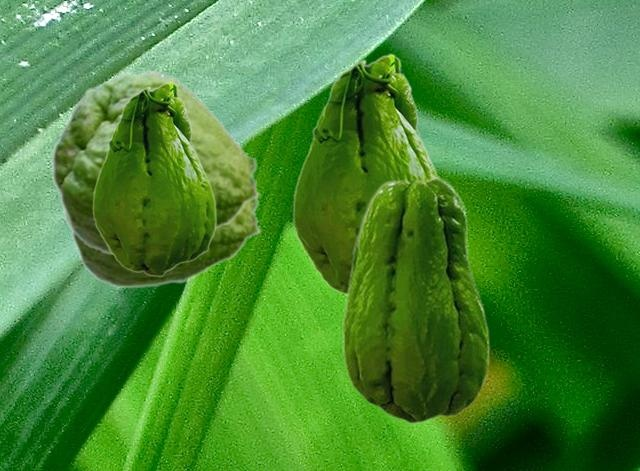sayote: (51, 69, 261, 255), (342, 176, 489, 423), (292, 53, 439, 296), (92, 81, 216, 276), (63, 199, 262, 288)
